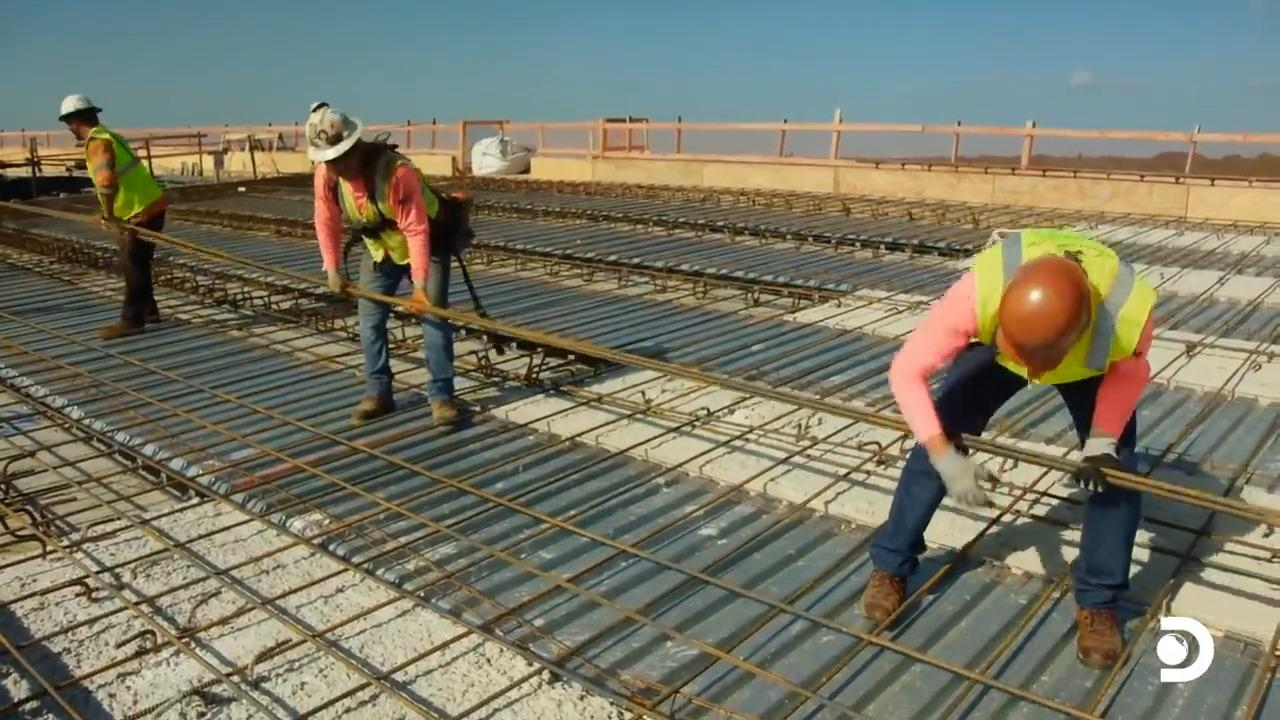Gloves: (932, 456, 1000, 518), (1064, 442, 1117, 495)
Helmet: (996, 254, 1091, 376), (305, 105, 362, 163), (57, 93, 102, 120)
Person: (860, 227, 1157, 670), (305, 102, 461, 427), (57, 92, 168, 340)
Safety Boot: (1074, 606, 1125, 661), (856, 573, 901, 618), (348, 395, 397, 419), (434, 395, 466, 429), (98, 318, 146, 340)
Safety Vest: (973, 232, 1140, 382), (346, 170, 424, 243), (98, 135, 149, 212)
